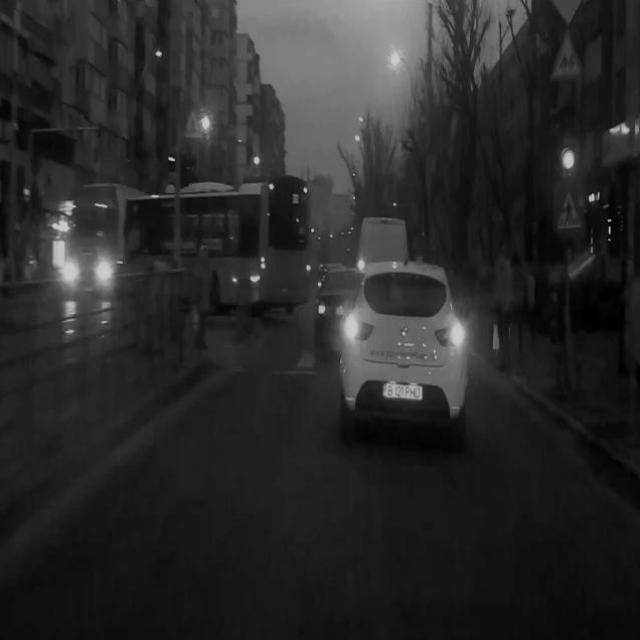licenseplate: (382, 380, 423, 402)
